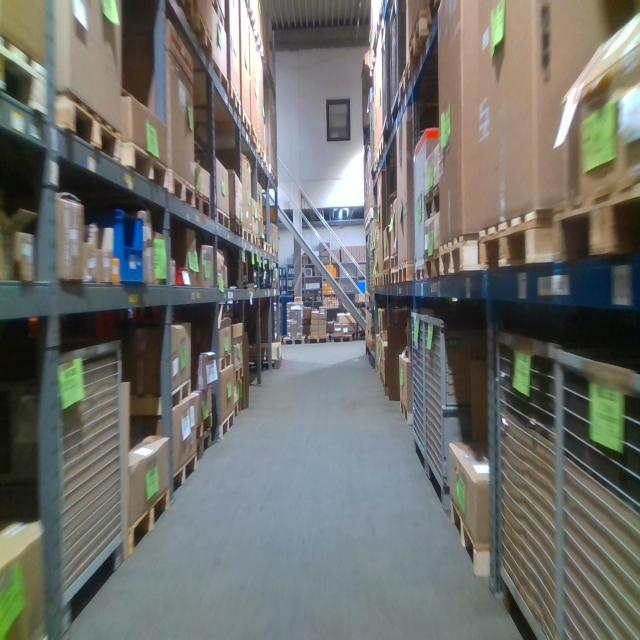pallet: (551, 169, 639, 273), (479, 203, 553, 280), (53, 89, 123, 165), (2, 35, 50, 118), (450, 499, 495, 581), (125, 482, 172, 558), (122, 134, 168, 194), (128, 377, 191, 419), (440, 230, 479, 286), (410, 8, 433, 94), (170, 453, 198, 499), (168, 168, 196, 211), (196, 6, 216, 66), (420, 176, 444, 222), (214, 406, 235, 448), (209, 54, 231, 93), (397, 62, 410, 115), (206, 2, 227, 31), (194, 430, 211, 459), (174, 2, 195, 25), (229, 83, 243, 116), (426, 246, 437, 287), (191, 412, 210, 435), (196, 192, 212, 218), (397, 262, 413, 287), (415, 257, 426, 293), (241, 109, 252, 142), (215, 351, 233, 371), (214, 209, 230, 228), (332, 332, 355, 345), (305, 333, 329, 345), (232, 362, 244, 385), (284, 333, 305, 346), (232, 397, 242, 420), (251, 125, 259, 153), (243, 225, 253, 246), (232, 216, 241, 237), (254, 232, 263, 250), (261, 240, 271, 254)
small_load_carrier: (87, 204, 147, 284)
stillage: (6, 332, 129, 639), (555, 340, 640, 637), (493, 325, 558, 639), (424, 308, 483, 518), (409, 307, 428, 475)
